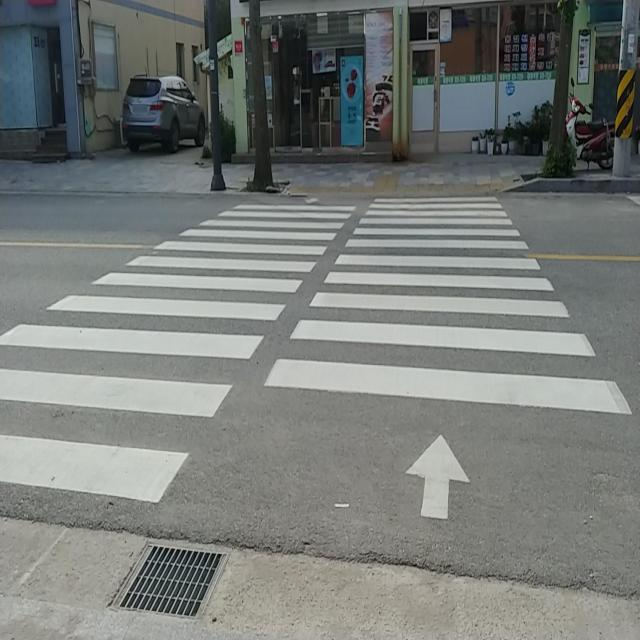횡단보도: (0, 195, 632, 519)
